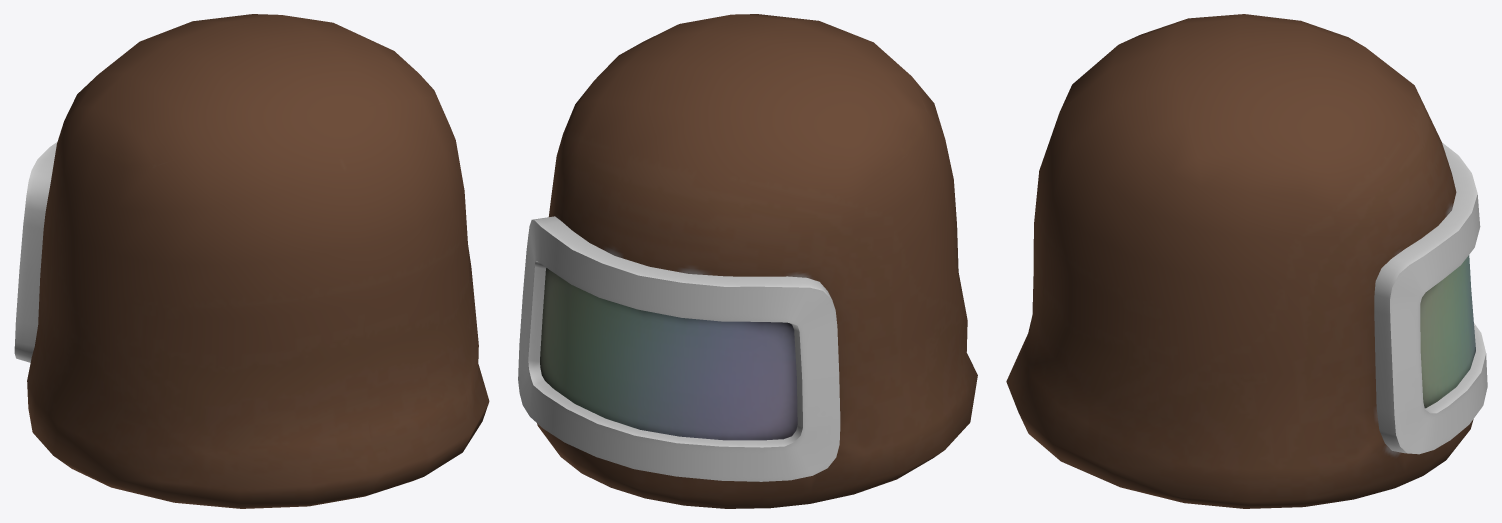
Rendered from JLAB_ProtectiveClothes_Head.fbx.
The picture shows the model from 3 angles, left to right: view 1: azimuth 30°, elevation 25°; view 2: azimuth 150°, elevation 25°; view 3: azimuth 270°, elevation 25°; orthographic projection. The views are drawn at different scales.
Parts seen in each view (by area): view 1: JLab_ProtectiveClothesOutSpace; view 2: JLab_ProtectiveClothesOutSpace; view 3: JLab_ProtectiveClothesOutSpace.
Boxes of the visible parts, left/top/right/bottom form: JLab_ProtectiveClothesOutSpace: left=14, top=14, right=489, bottom=508; JLab_ProtectiveClothesOutSpace: left=518, top=14, right=977, bottom=508; JLab_ProtectiveClothesOutSpace: left=1006, top=14, right=1487, bottom=508.
Size of the model in its own units: 0.6252 by 0.5793 by 0.6588.
1 material, 1 textured.
